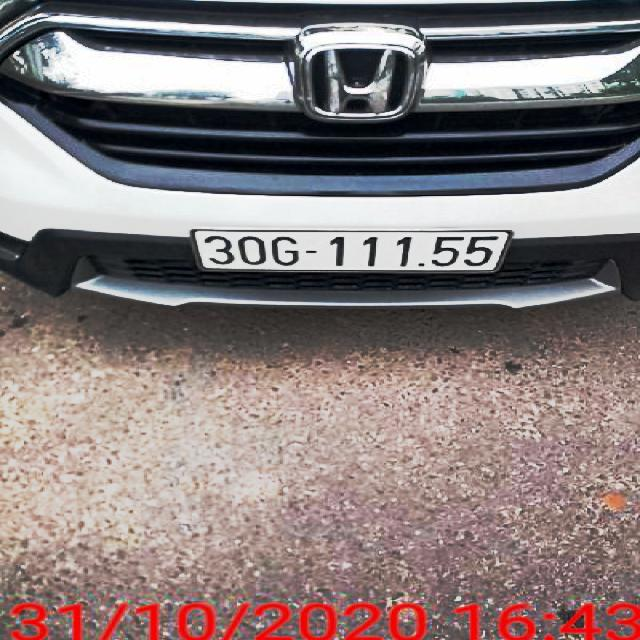license_plate: (193, 232, 512, 273)
